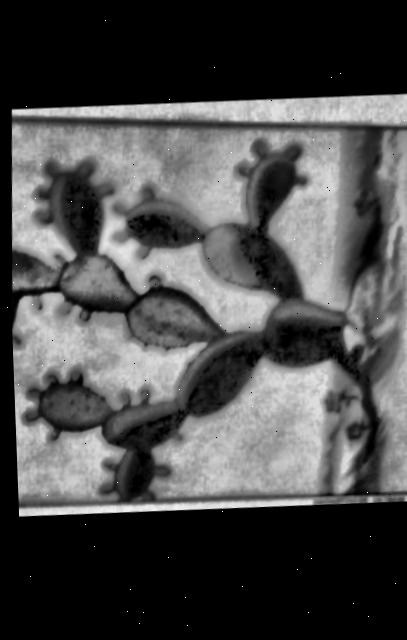El Nopal: (9, 119, 407, 508)
